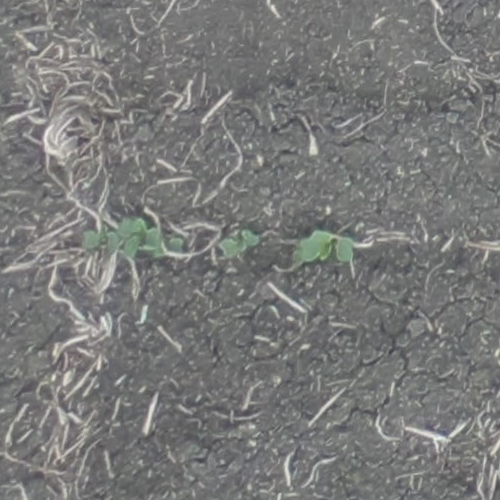plant: (82, 217, 158, 261), (298, 229, 355, 263), (218, 228, 260, 260), (168, 236, 185, 254)
